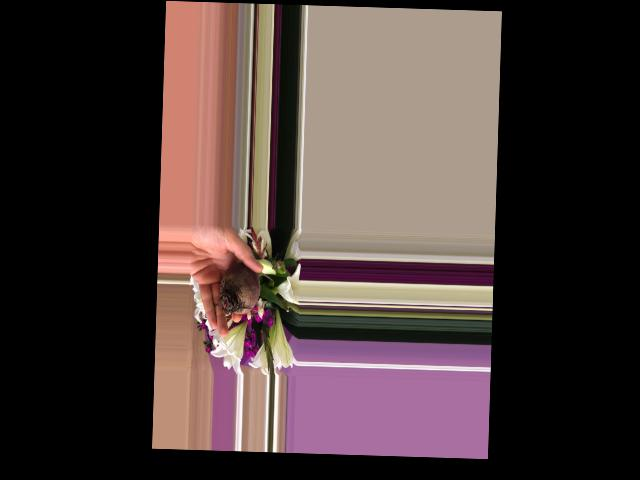beet: (218, 262, 273, 315)
